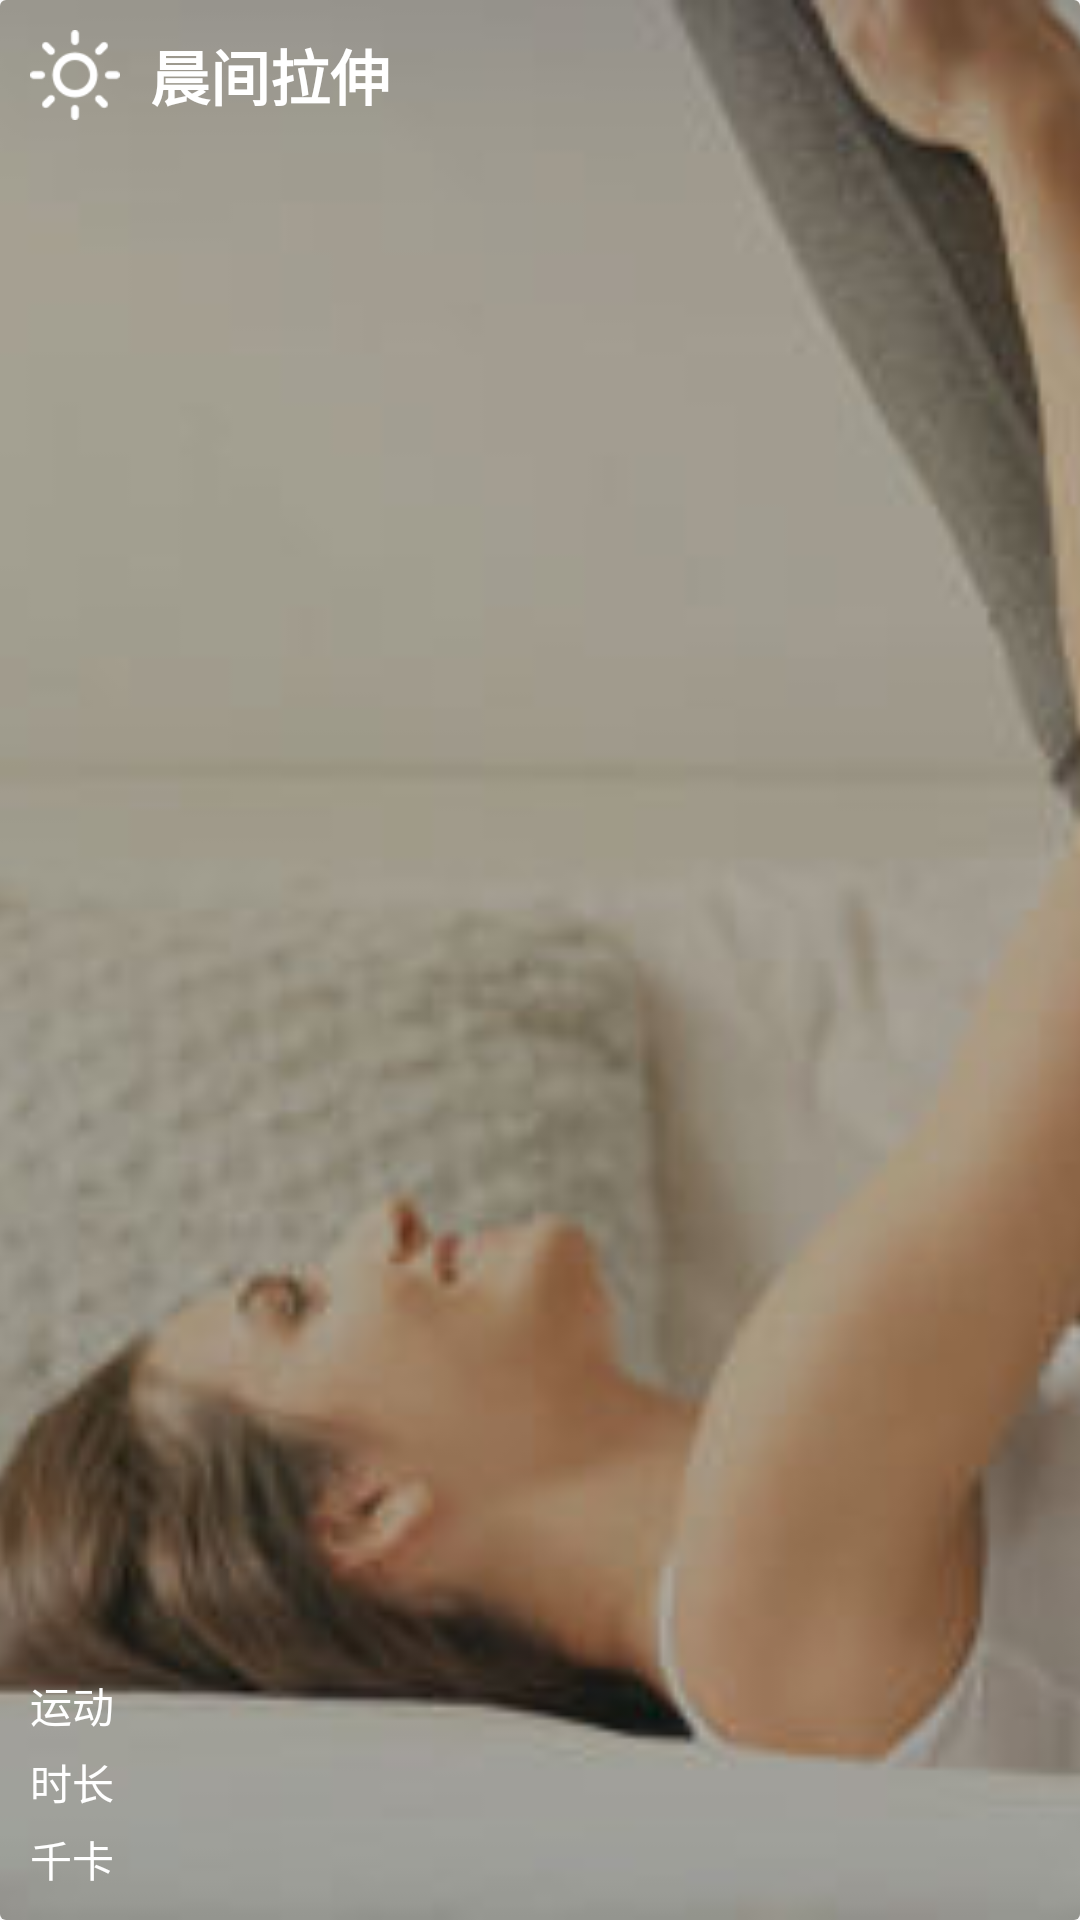

Named icons in this screenshot (1080w x 1920h) and their centers, point (x, y):
morning: point (75, 75)
